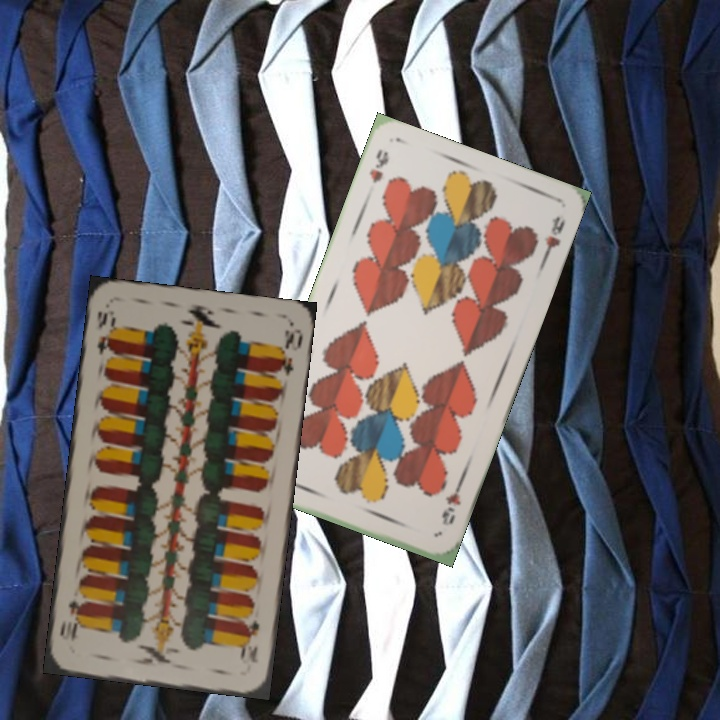E10: (93, 306, 118, 357), (239, 615, 262, 666)
H9: (437, 479, 465, 529), (365, 145, 392, 186)
